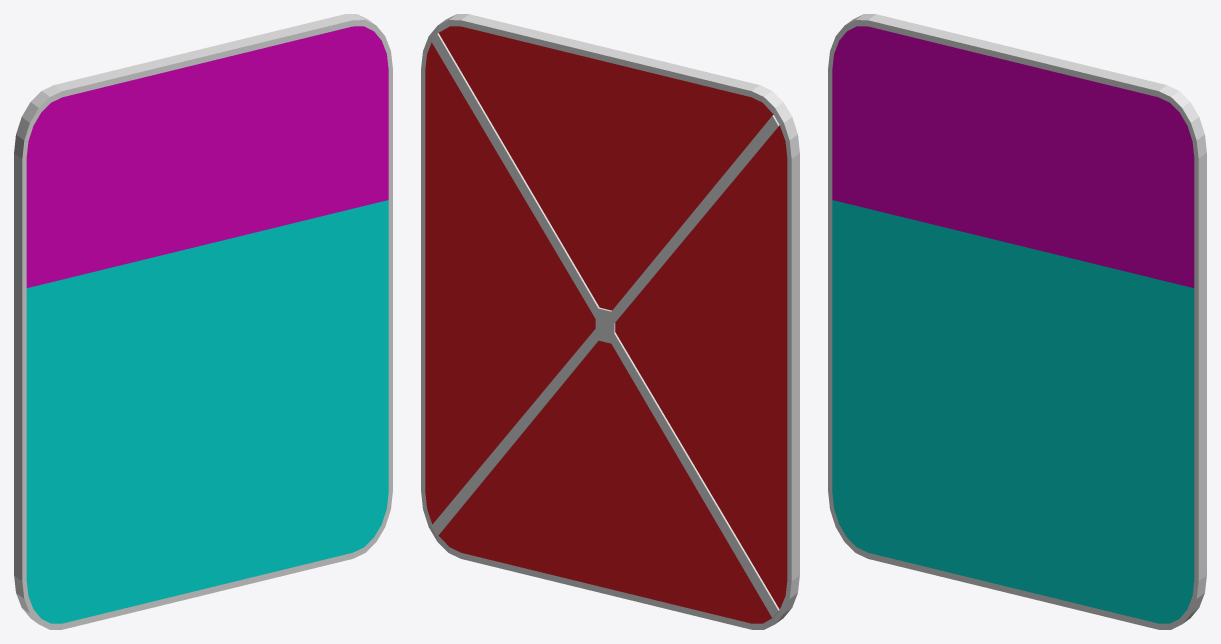
File: New_player_card_w_back.fbx
3 renders of one model, left to right at view 1: azimuth 30°, elevation 25°; view 2: azimuth 150°, elevation 25°; view 3: azimuth 330°, elevation 25°, orthographic.
Parts seen in each view (by area): view 1: Cube.001; view 2: Cube.001; view 3: Cube.001.
Part boxes in pixels (box(x1,y1,x2,y2)): Cube.001: box(14, 14, 392, 629); Cube.001: box(421, 14, 799, 629); Cube.001: box(828, 14, 1206, 629).
Bounding box in the file's own units: 360 × 500 × 16.46.
